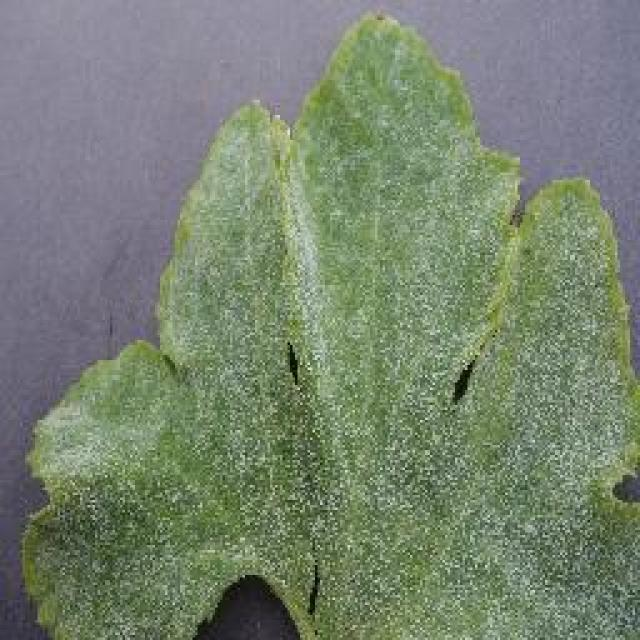Squ_Powdery_mildew: (213, 136, 447, 580), (465, 267, 640, 640), (38, 409, 194, 640)
